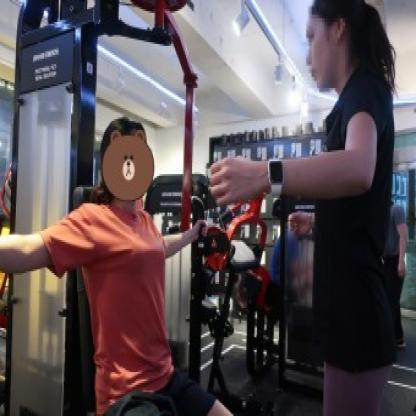chest fly machine: (0, 0, 261, 416)
